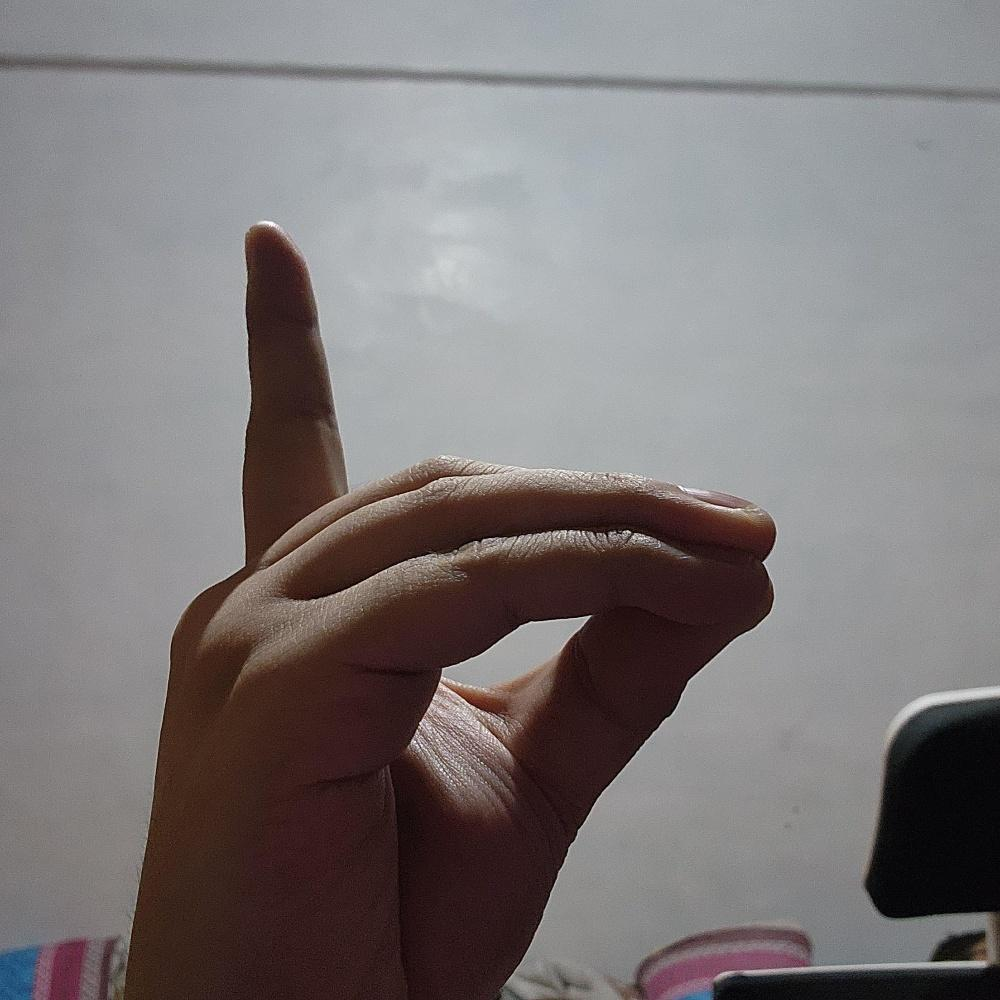d: (141, 216, 775, 999)
